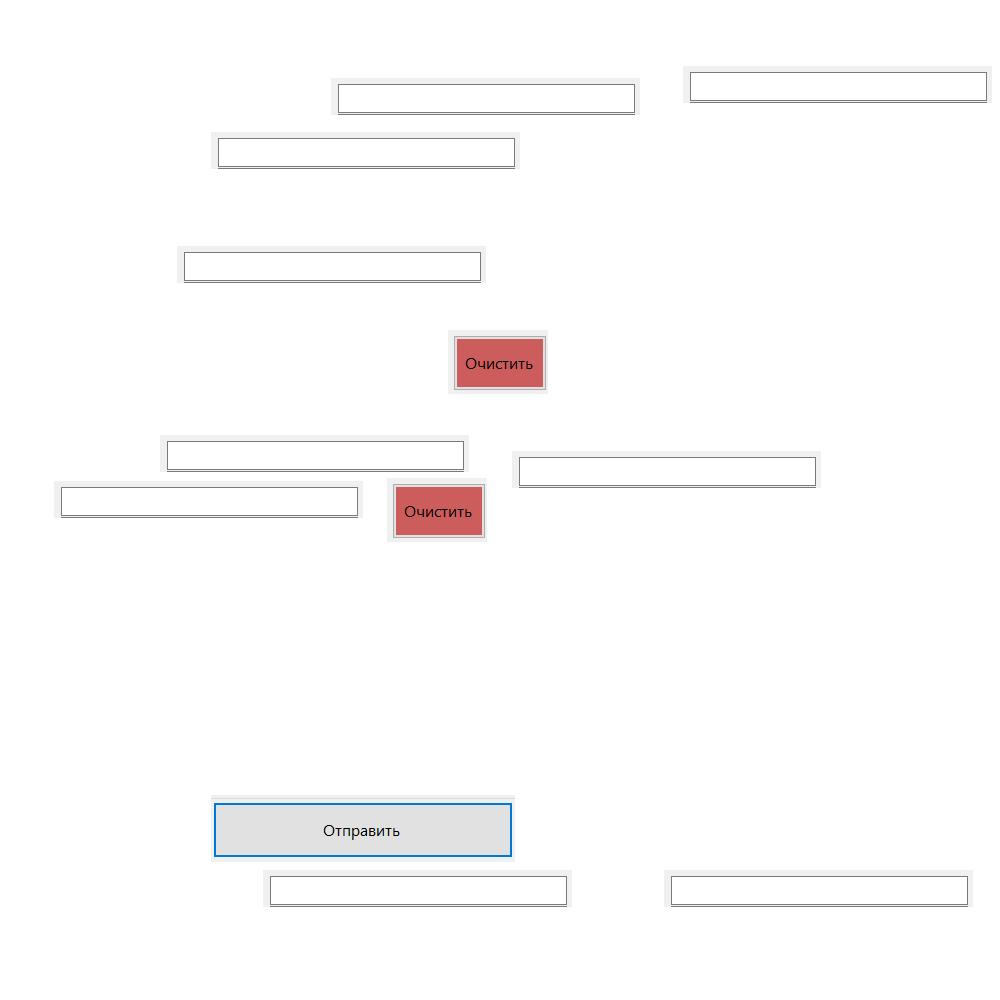Button: (211, 795, 515, 862), (448, 330, 548, 394), (387, 478, 487, 542)
EditText-: (263, 870, 572, 907), (160, 435, 469, 472), (664, 870, 973, 907), (211, 132, 520, 169), (683, 66, 992, 103), (177, 246, 486, 283), (331, 78, 640, 115), (54, 481, 363, 518), (512, 451, 821, 488)
